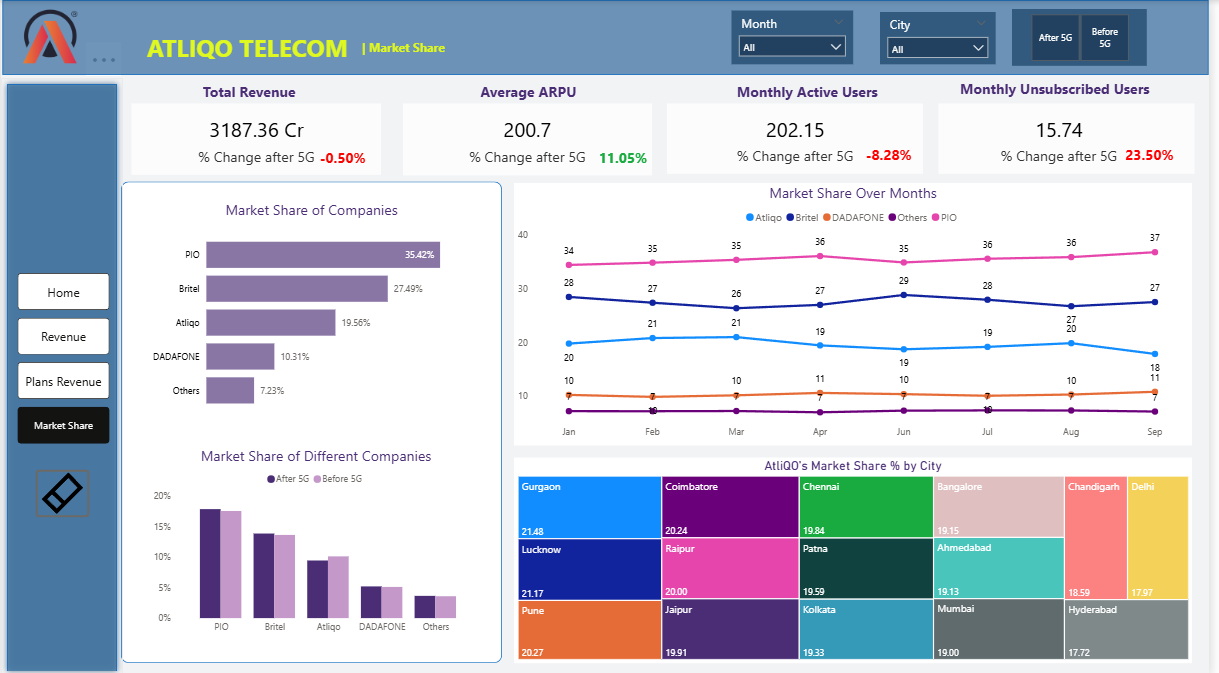

What the dashboard file says about the page in this screenshot:
{"tool":"powerbi","page":{"name":"Market Share","canvas":[1600,900],"ordinal":3},"visuals":[{"type":"shape","box":[159.1,240.6,505,638.2],"z":0},{"type":"clusteredBarChart","title":"Market Share of Companies","fields":{"Category":["fact_market_share.company"],"Y":["Sum(fact_market_share.ms_pct)"]},"box":[190.9,264.4,441.4,294.3],"z":1000},{"type":"clusteredColumnChart","title":"Market Share of Different Companies ","fields":{"Category":["fact_market_share.company"],"Y":["Sum(fact_market_share.ms_pct)"],"Series":["dim_date.before/after_5g"]},"box":[196.8,590.5,441.4,258.5],"z":2000},{"type":"areaChart","title":"Market Share Over Months","fields":{"Category":["dim_date.month_name"],"Series":["fact_market_share.company"],"Y":["Key Measures.Market Share %"]},"box":[680,242.6,898.7,347.9],"z":3000},{"type":"treemap","title":"AtliQO''s Market Share % by City","fields":{"Group":["dim_cities.city_name"],"Values":["Key Measures.Market Share %"]},"box":[680,606.4,898.7,272.4],"z":4000},{"type":"card","fields":{"Values":["Key Measures.AVG ARPU"]},"box":[533.1,136.3,329.9,95.6],"z":5000},{"type":"card","fields":{"Values":["Key Measures.Monthly Unsubscribed User(MUU)"]},"box":[1243,136.3,339.4,93.2],"z":6000},{"type":"card","fields":{"Values":["Key Measures.Monthlyy Active users"]},"box":[882.1,136.3,339.4,93.2],"z":7000},{"type":"card","fields":{"Values":["Key Measures.TR Scorecard"]},"box":[172.4,137,330.7,94.5],"z":8000},{"type":"multiRowCard","fields":{"Values":["Key Measures.% Change After 5G"]},"box":[418.1,191.3,94.5,49.6],"z":9000},{"type":"multiRowCard","fields":{"Values":["Key Measures.CHG % ARPU"]},"box":[786.5,191.2,95.6,35.9],"z":10000},{"type":"multiRowCard","fields":{"Values":["Key Measures.CHG % AU"]},"box":[1141.3,186.9,81.5,51.7],"z":11000},{"type":"multiRowCard","fields":{"Values":["Key Measures.CHG % (UU)"]},"box":[1484.5,186.5,95.6,55],"z":12000},{"type":"shape","box":[0,103.4,161.7,795.3],"z":13000},{"type":"shape","box":[1.4,0,1598.6,99.4],"z":14000},{"type":"slicer","fields":{"Values":["dim_date.before/after_5g"]},"box":[1340.1,11.9,178.9,75.6],"z":15000},{"type":"slicer","fields":{"Values":["dim_date.month_name"]},"box":[968.3,13.9,161,71.6],"z":16000},{"type":"slicer","fields":{"Values":["dim_cities.city_name"]},"box":[1165.1,15.9,153.1,69.6],"z":17000},{"type":"image","box":[9.9,5.3,111.3,83.5],"z":18000},{"type":"pageNavigator","box":[22.5,361.9,122.6,228.7],"z":19000},{"type":"textbox","box":[262.5,103.4,147.1,55.7],"z":20000},{"type":"textbox","box":[630.3,103.4,147.1,55.7],"z":21000},{"type":"textbox","box":[948.4,103.4,240.6,55.7],"z":22000},{"type":"textbox","box":[1242.7,99.4,308.2,57.7],"z":23000},{"type":"actionButton","box":[45.7,622.3,71.6,63.6],"z":24000},{"type":"textbox","box":[169,35.8,324.1,53.7],"z":24001},{"type":"textbox","box":[473.2,45.7,133.2,39.8],"z":24002}]}

Visuals, with their boxes on the page's 1600x900 design canvas (x1, y1, x2, y2). These are canvas units, not pixel positions in the 1219x673 screenshot, which may show the page scaled, cropped or inside an application window:
shape: <region>159, 241, 664, 879</region>
"Market Share of Companies" clusteredBarChart: <region>191, 264, 632, 559</region>
"Market Share of Different Companies " clusteredColumnChart: <region>197, 590, 638, 849</region>
"Market Share Over Months" areaChart: <region>680, 243, 1579, 590</region>
"AtliQO''s Market Share % by City" treemap: <region>680, 606, 1579, 879</region>
card - Key Measures.AVG ARPU: <region>533, 136, 863, 232</region>
card - Key Measures.Monthly Unsubscribed User(MUU): <region>1243, 136, 1582, 230</region>
card - Key Measures.Monthlyy Active users: <region>882, 136, 1222, 230</region>
card - Key Measures.TR Scorecard: <region>172, 137, 503, 232</region>
multiRowCard - Key Measures.% Change After 5G: <region>418, 191, 513, 241</region>
multiRowCard - Key Measures.CHG % ARPU: <region>786, 191, 882, 227</region>
multiRowCard - Key Measures.CHG % AU: <region>1141, 187, 1223, 239</region>
multiRowCard - Key Measures.CHG % (UU): <region>1484, 186, 1580, 242</region>
shape: <region>0, 103, 162, 899</region>
shape: <region>1, 0, 1600, 99</region>
slicer - dim_date.before/after_5g: <region>1340, 12, 1519, 88</region>
slicer - dim_date.month_name: <region>968, 14, 1129, 86</region>
slicer - dim_cities.city_name: <region>1165, 16, 1318, 86</region>
image: <region>10, 5, 121, 89</region>
pageNavigator: <region>22, 362, 145, 591</region>
textbox: <region>262, 103, 410, 159</region>
textbox: <region>630, 103, 777, 159</region>
textbox: <region>948, 103, 1189, 159</region>
textbox: <region>1243, 99, 1551, 157</region>
actionButton: <region>46, 622, 117, 686</region>
textbox: <region>169, 36, 493, 90</region>
textbox: <region>473, 46, 606, 86</region>
